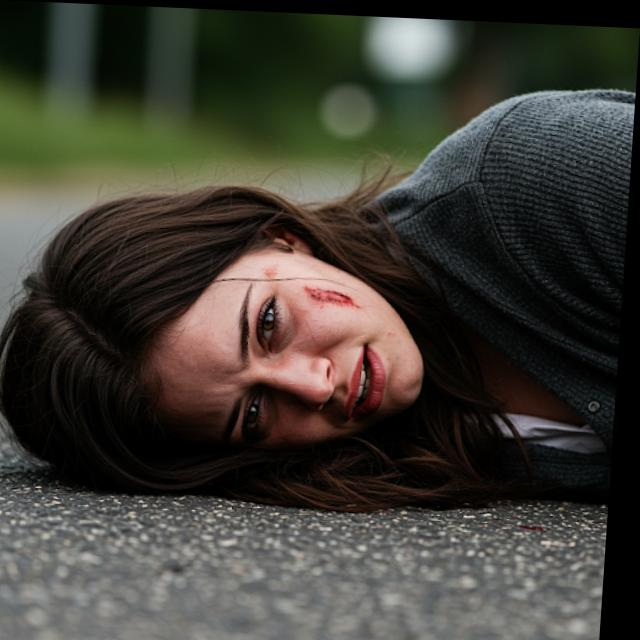injury: (294, 279, 367, 319)
